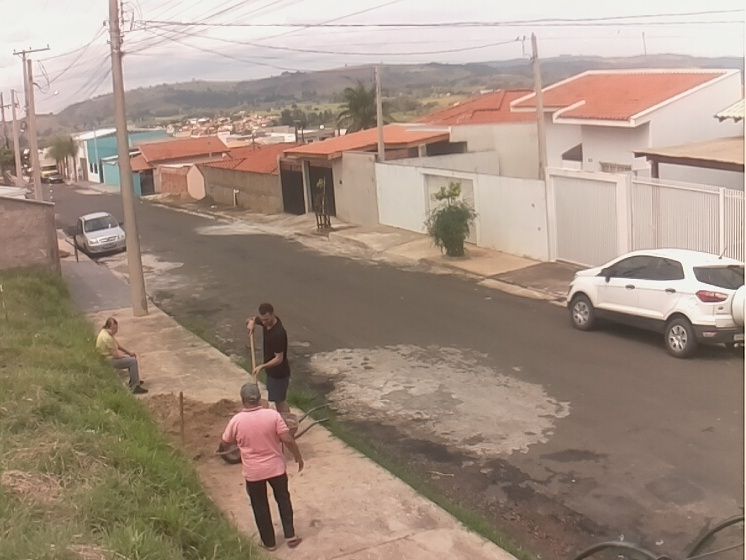person: (221, 382, 305, 549), (245, 302, 292, 414), (95, 317, 147, 395)
